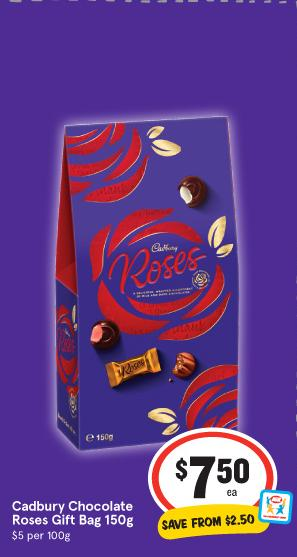description_block: (4, 491, 143, 530)
price_main: (151, 439, 259, 504)
product_image_block: (35, 107, 251, 444)
promo_text_block: (143, 510, 282, 539)
unit_price_block: (6, 530, 101, 552)
